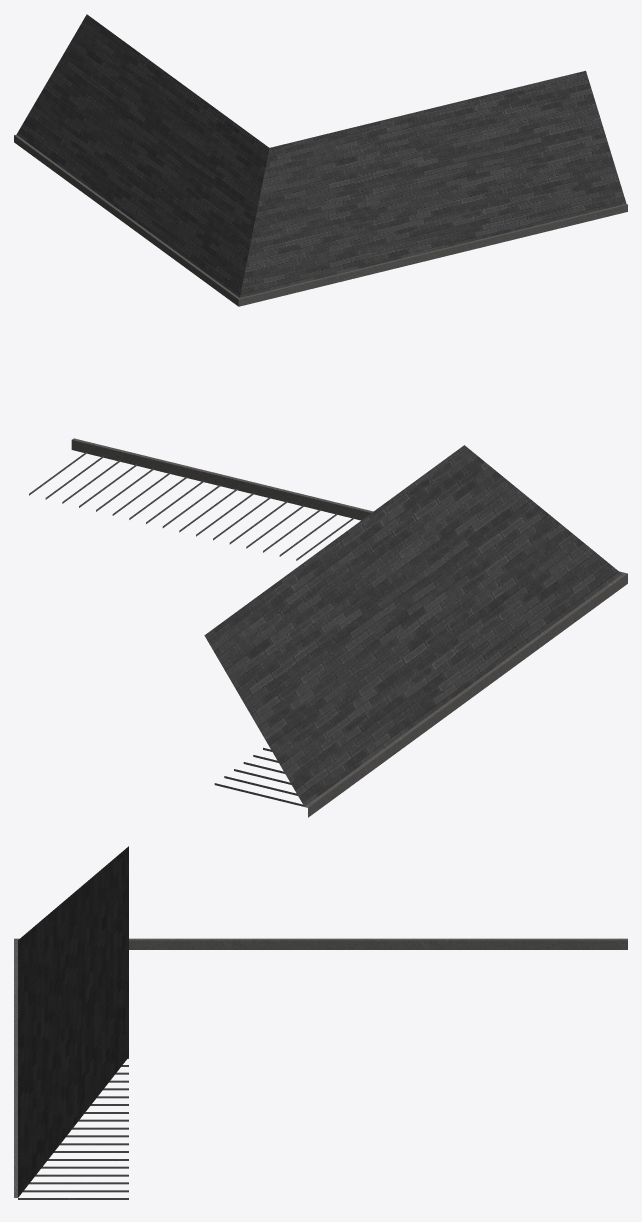
File: Sm_Roof01d.glb
3 renders of one model, top to bottom at view 1: azimuth 30°, elevation 25°; view 2: azimuth 150°, elevation 25°; view 3: azimuth 270°, elevation 25°, orthographic. The views are drawn at different scales.
Visible parts, largest first — view 1: Sm_Roof01d; view 2: Sm_Roof01d; view 3: Sm_Roof01d.
Part boxes in pixels (x1=…): Sm_Roof01d: x1=14, y1=14, x2=627, y2=306; Sm_Roof01d: x1=29, y1=438, x2=627, y2=817; Sm_Roof01d: x1=14, y1=846, x2=627, y2=1199.
Size of the model in its own units: 554 by 150 by 554.
2 materials, 2 textured.
